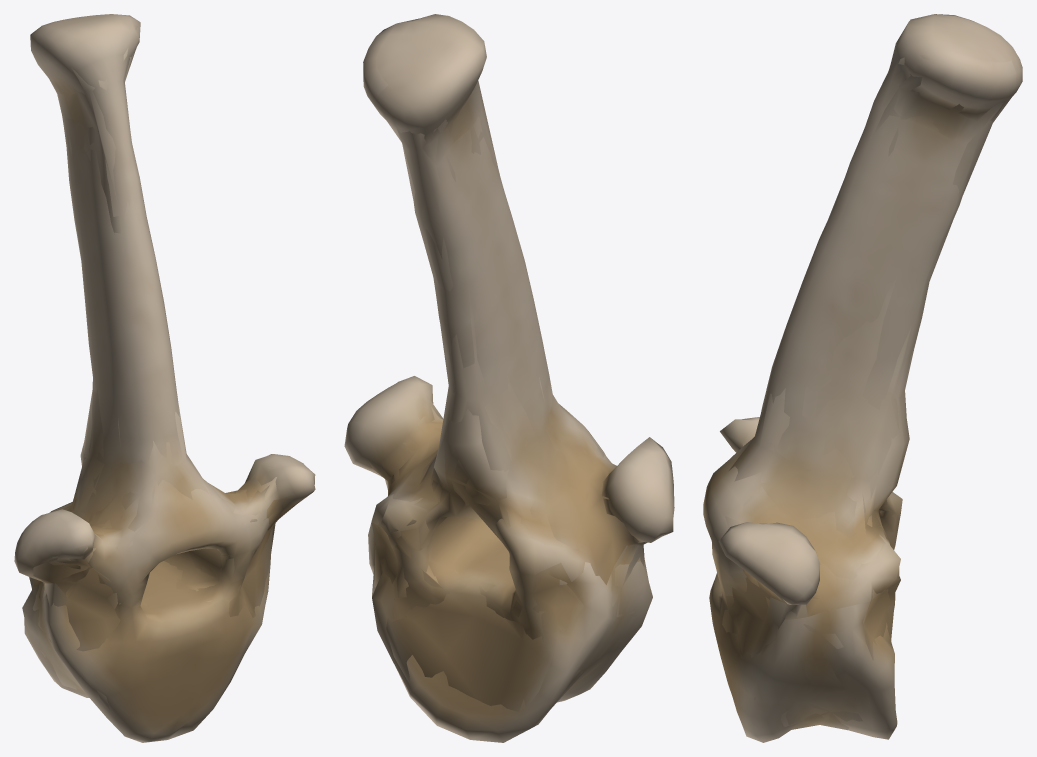
The model's file is vertebrae thoracicae 07.fbx.
3 renders of one model, left to right at view 1: azimuth 30°, elevation 25°; view 2: azimuth 150°, elevation 25°; view 3: azimuth 270°, elevation 25°, orthographic. The views are drawn at different scales.
Parts seen in each view (by area): view 1: vertebrae thoracicae 07, vertebrae thoracicae 07 low; view 2: vertebrae thoracicae 07, vertebrae thoracicae 07 low; view 3: vertebrae thoracicae 07, vertebrae thoracicae 07 low.
Boxes of the visible parts, left/top/right/bottom form: vertebrae thoracicae 07: left=14, top=14, right=315, bottom=742; vertebrae thoracicae 07 low: left=32, top=24, right=300, bottom=710; vertebrae thoracicae 07: left=344, top=14, right=674, bottom=742; vertebrae thoracicae 07 low: left=367, top=81, right=663, bottom=711; vertebrae thoracicae 07: left=703, top=14, right=1022, bottom=742; vertebrae thoracicae 07 low: left=722, top=54, right=1011, bottom=730.
Size of the model in its own units: 8.58 by 18.47 by 7.5.
Materials: 1 (1 with a texture image).
